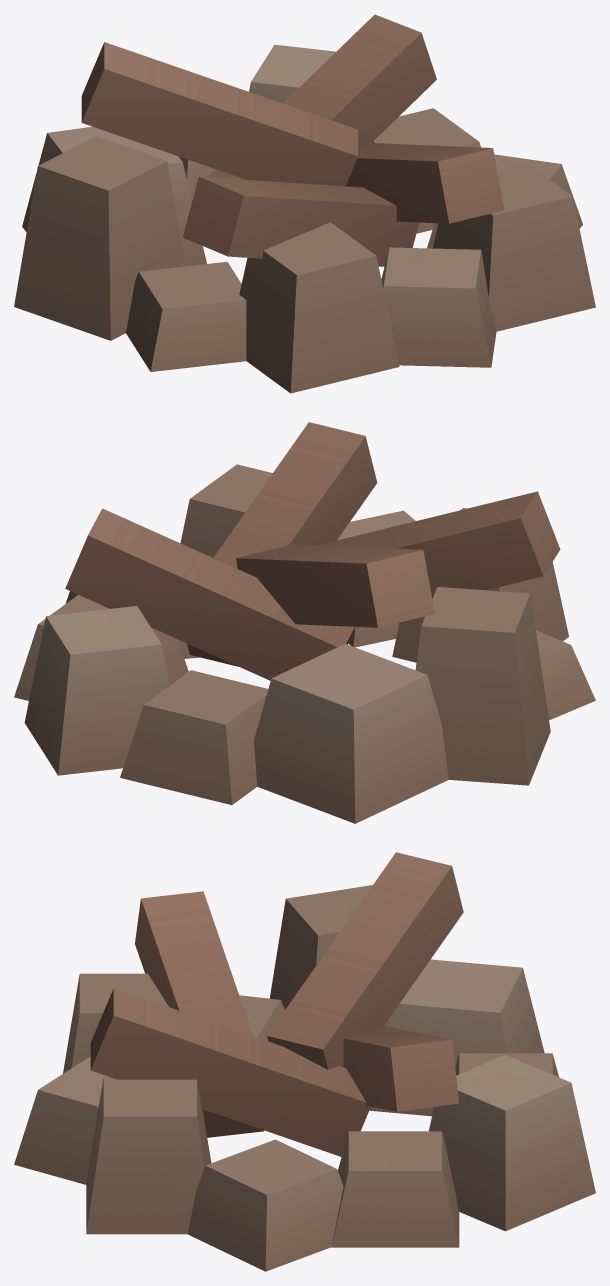
The model's file is campfire_pit.glb.
The picture shows the model from 3 angles, top to bottom: view 1: azimuth 30°, elevation 25°; view 2: azimuth 150°, elevation 25°; view 3: azimuth 270°, elevation 25°; orthographic projection. The views are drawn at different scales.
Parts seen in each view (by area): view 1: campfire-pit, wood; view 2: campfire-pit, wood; view 3: campfire-pit, wood.
Part boxes in pixels (x1,y1,x2,y2): campfire-pit: [14, 44, 595, 393]; wood: [81, 14, 504, 266]; campfire-pit: [14, 464, 595, 823]; wood: [65, 422, 560, 680]; campfire-pit: [14, 885, 595, 1271]; wood: [90, 852, 463, 1156].
Size of the model in its own units: 0.7361 by 0.289 by 0.7135.
1 material, 1 textured.
